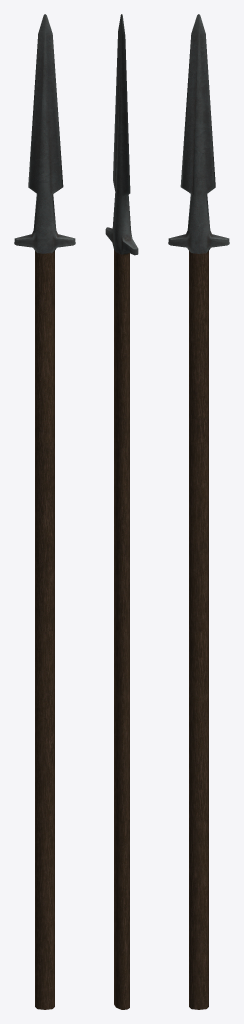
Rendered from spear.glb.
3 views of the same model, side by side, from view 1: azimuth 90°, elevation 25°; view 2: azimuth 210°, elevation 25°; view 3: azimuth 270°, elevation 25° (orthographic).
Parts seen in each view (by area): view 1: spear; view 2: spear; view 3: spear.
Part boxes in pixels (x1=…): spear: x1=14, y1=14, x2=75, y2=1009; spear: x1=105, y1=14, x2=138, y2=1009; spear: x1=168, y1=14, x2=229, y2=1009.
Bounding box in the file's own units: 0.057 × 3.93 × 0.2201.
Materials: 1 (1 with a texture image).
